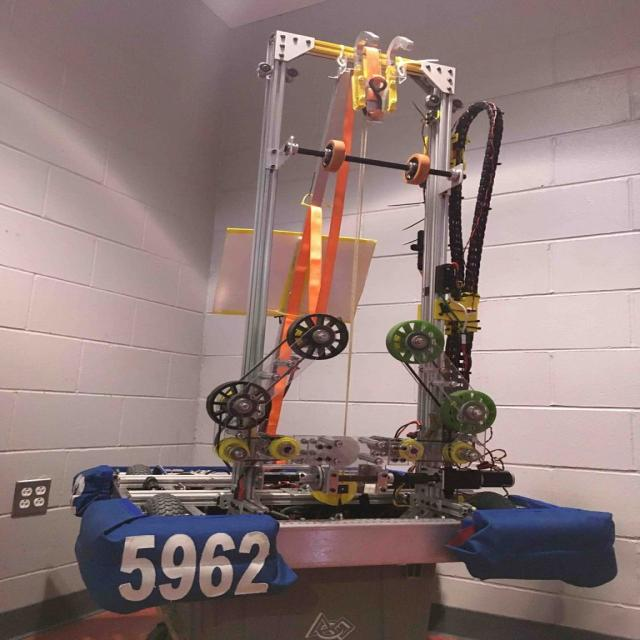robot: (72, 29, 618, 615)
